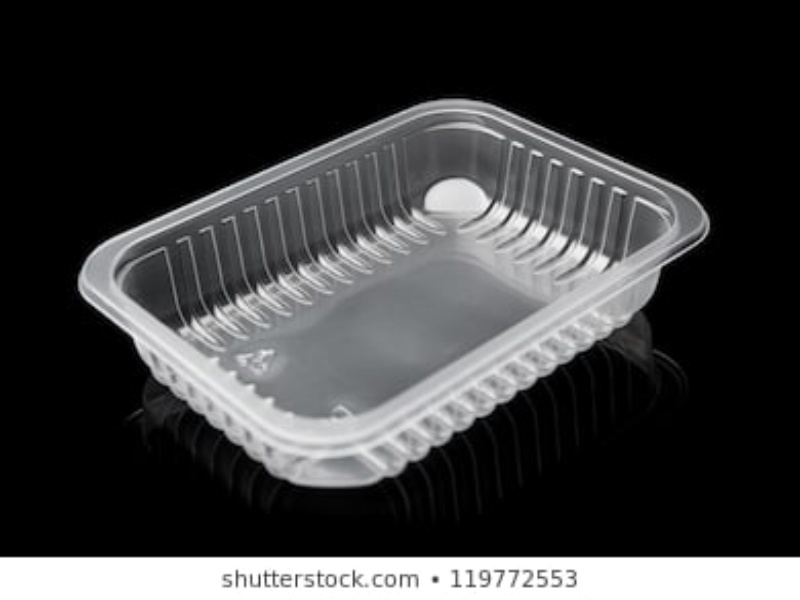plastic-container: (80, 97, 716, 480)
